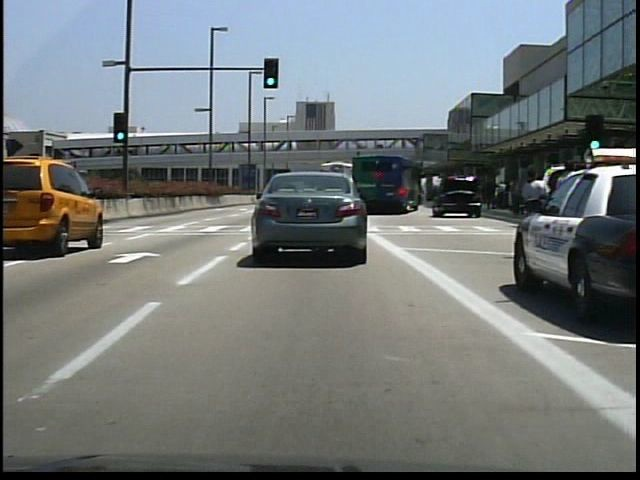person: (512, 163, 551, 262), (35, 167, 52, 226), (55, 172, 75, 219)
